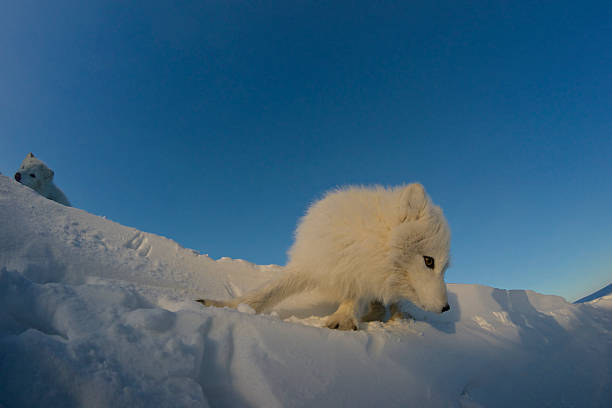arcticfox: (392, 206, 460, 322)
